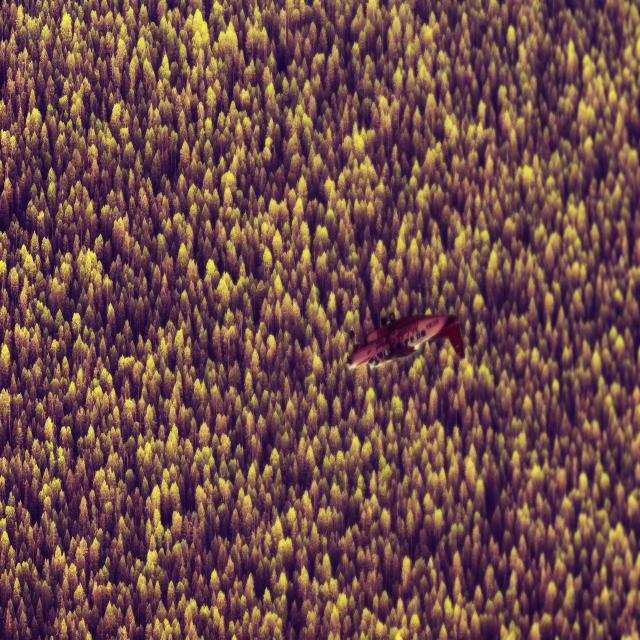airplane: (345, 311, 464, 371)
